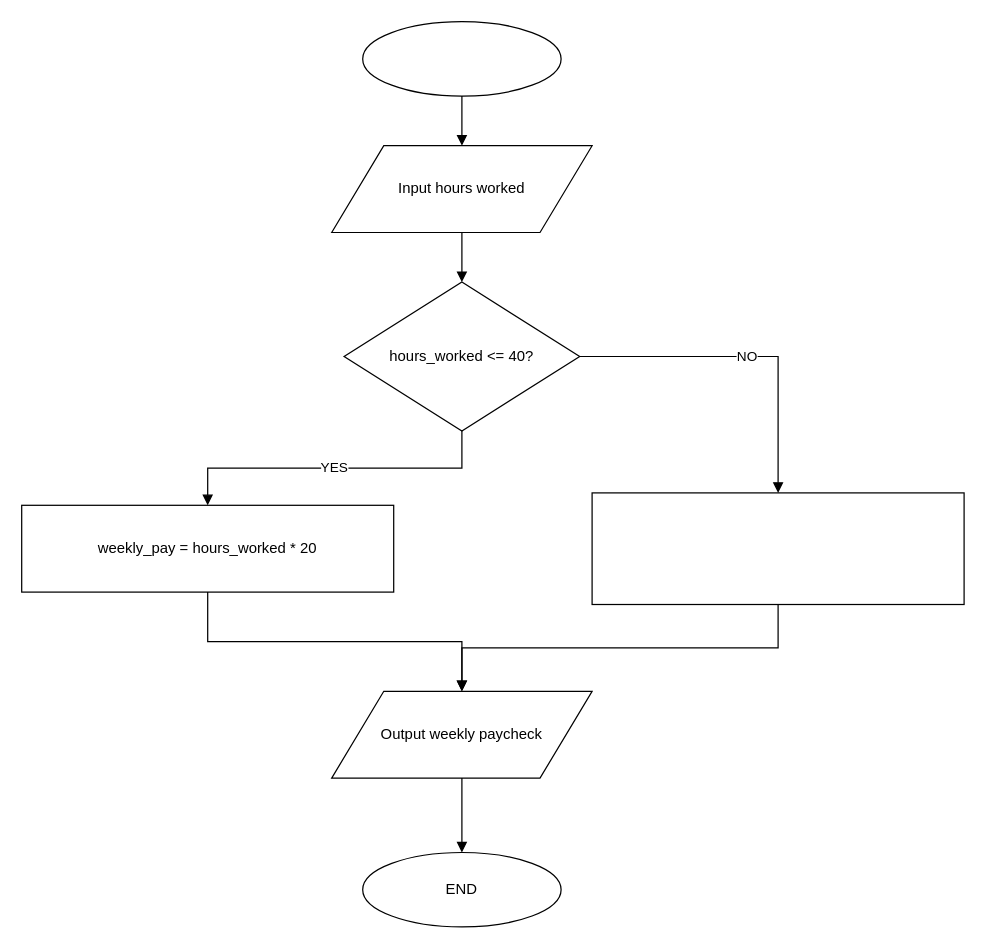
Some shapes in this 986 by 949 pixel diagram are drawn without their labels. The box of each missing label's shape, as (x1, y1, x2, y2) in pixels:
START: (361, 20, 561, 96)
weekly_pay = (40 * 20) + ((hours_worked - 40) * 30): (591, 492, 964, 604)
